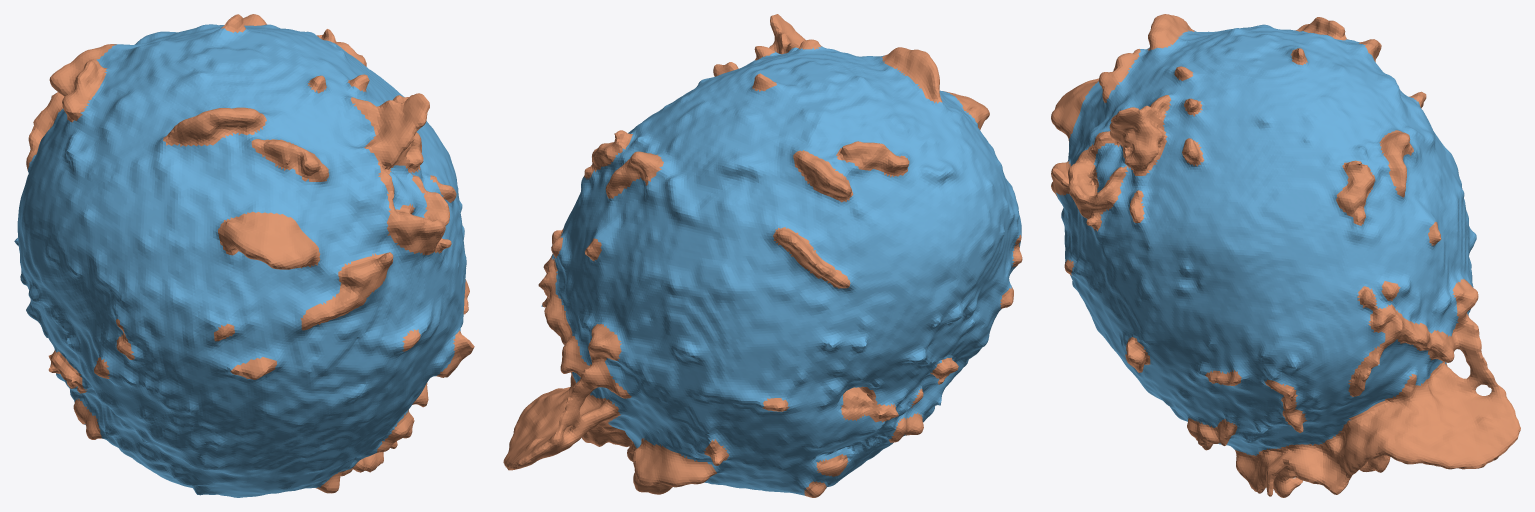
3 renders of one model, left to right at view 1: azimuth 30°, elevation 25°; view 2: azimuth 150°, elevation 25°; view 3: azimuth 270°, elevation 25°, orthographic. The views are drawn at different scales.
Bounding box in the file's own units: 126 × 131 × 137.
